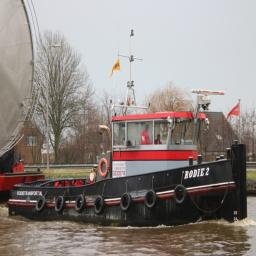tugboat: (6, 21, 251, 235)
